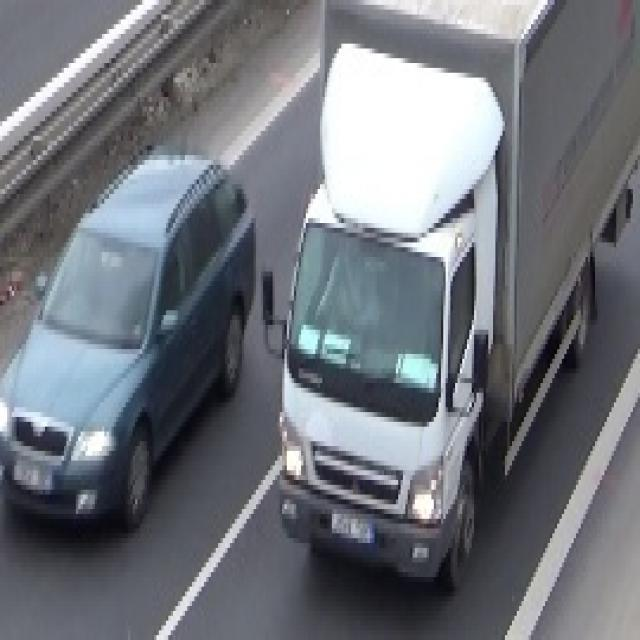car: (0, 143, 268, 533)
truck: (256, 0, 638, 587)
